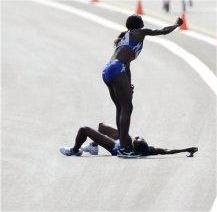bending: (103, 11, 183, 157)
down: (52, 121, 206, 161)
